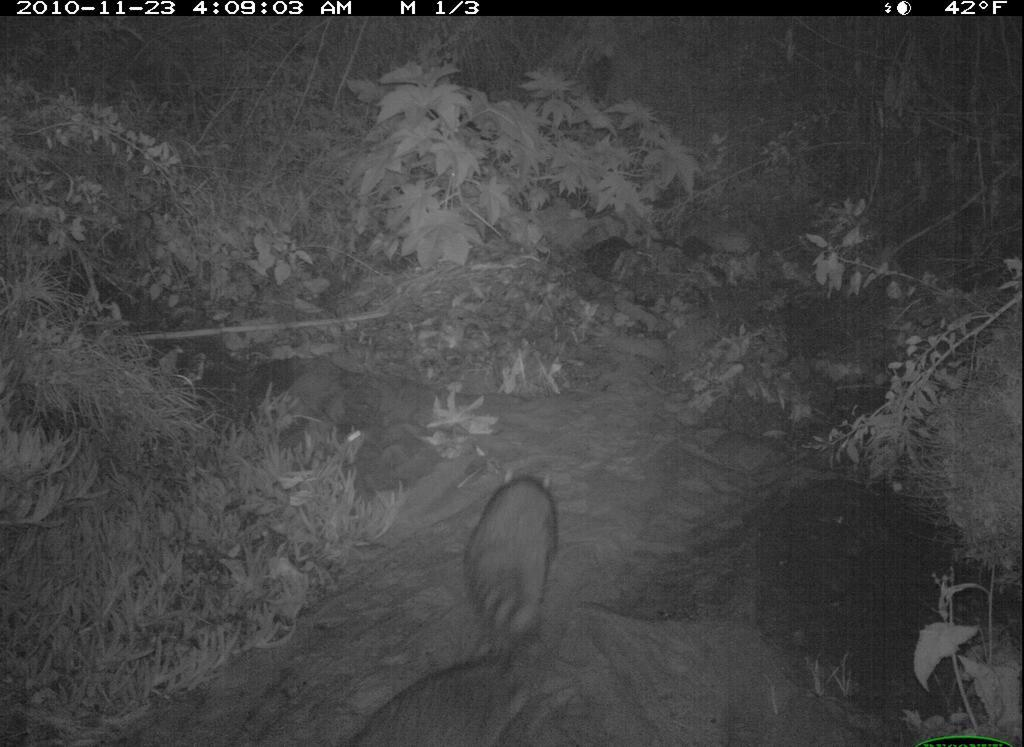raccoon: (456, 452, 568, 652), (355, 652, 546, 747)
